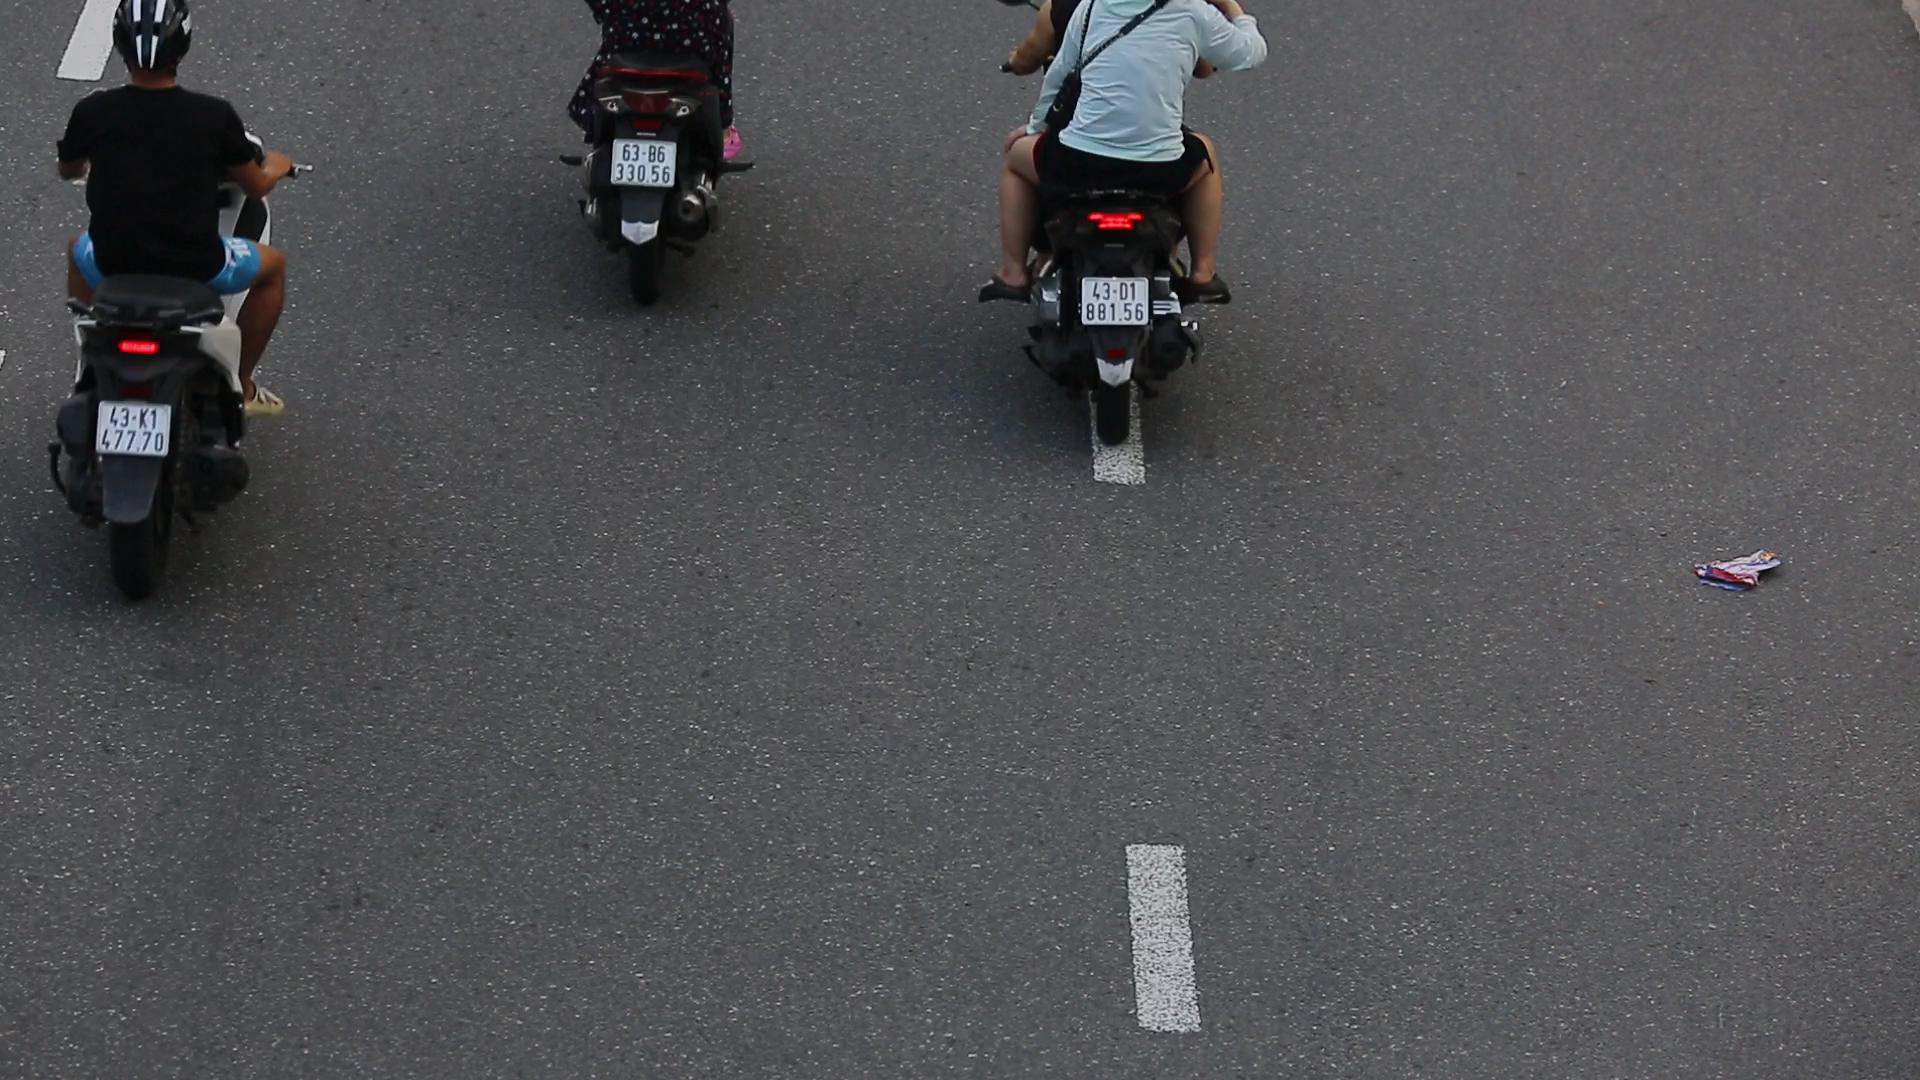motobike: (37, 5, 311, 624)
